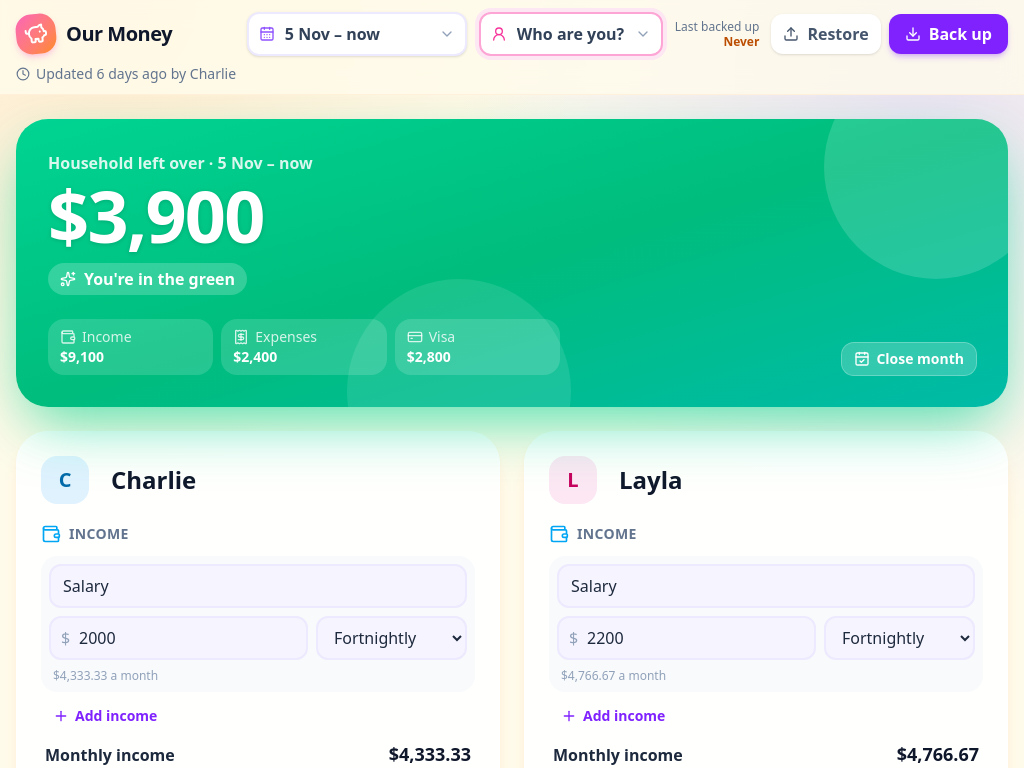
Test case: Back up › records when the backup was made and shows it
Check: the text "Never" is shown, box [723, 33, 759, 50]
Click the button "Back up" at (948, 34), box [889, 14, 1008, 54]
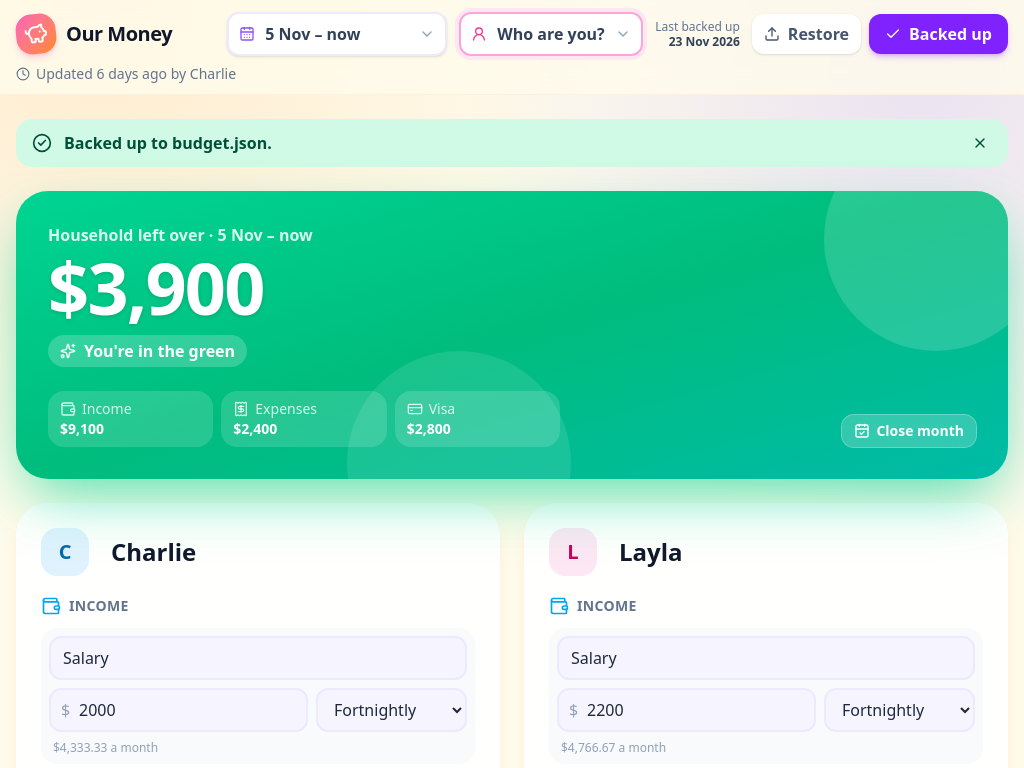
Check: the text "Backed up to budget.json." is shown, box [64, 132, 272, 154]
Check: the text "Never" is gone
